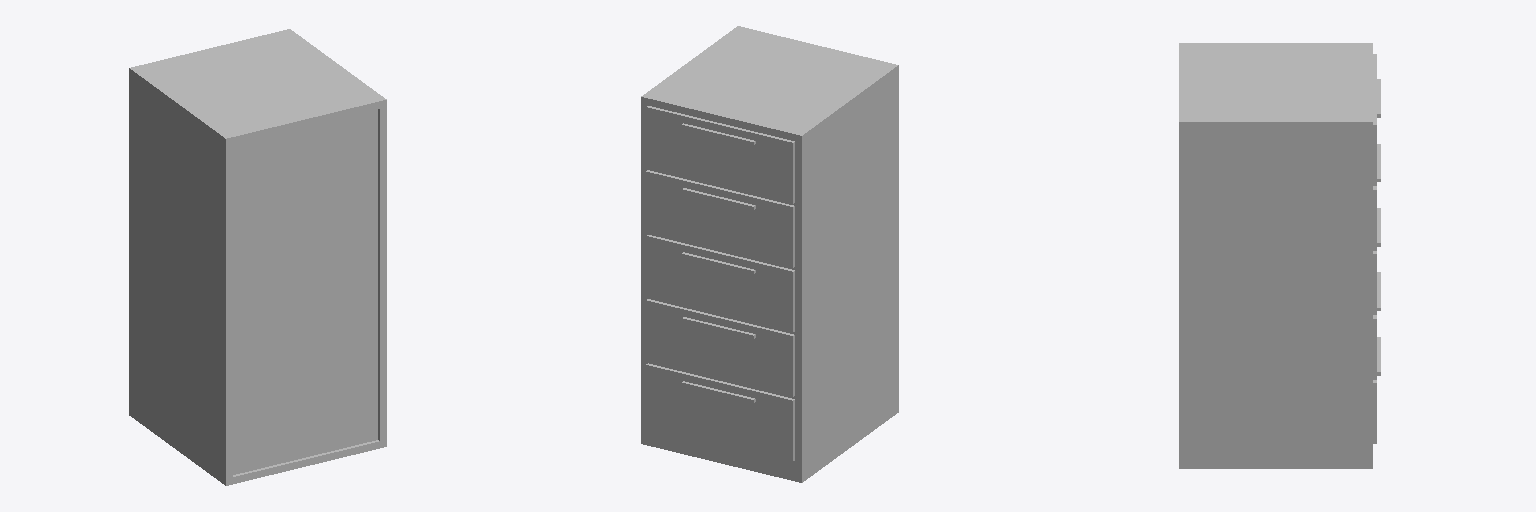
Rendered from cupboard1.obj.
The picture shows the model from 3 angles: view 1: azimuth 30°, elevation 25°; view 2: azimuth 150°, elevation 25°; view 3: azimuth 270°, elevation 25°; orthographic projection.
Parts seen in each view (by area): view 1: Untitled.001; view 2: Untitled.001; view 3: Untitled.001.
Part boxes in pixels (bbox=[...]): Untitled.001: bbox=[129, 29, 386, 485]; Untitled.001: bbox=[641, 26, 898, 482]; Untitled.001: bbox=[1179, 43, 1380, 468].
Bounding box in the file's own units: 4.7 × 9.7 × 5.1.